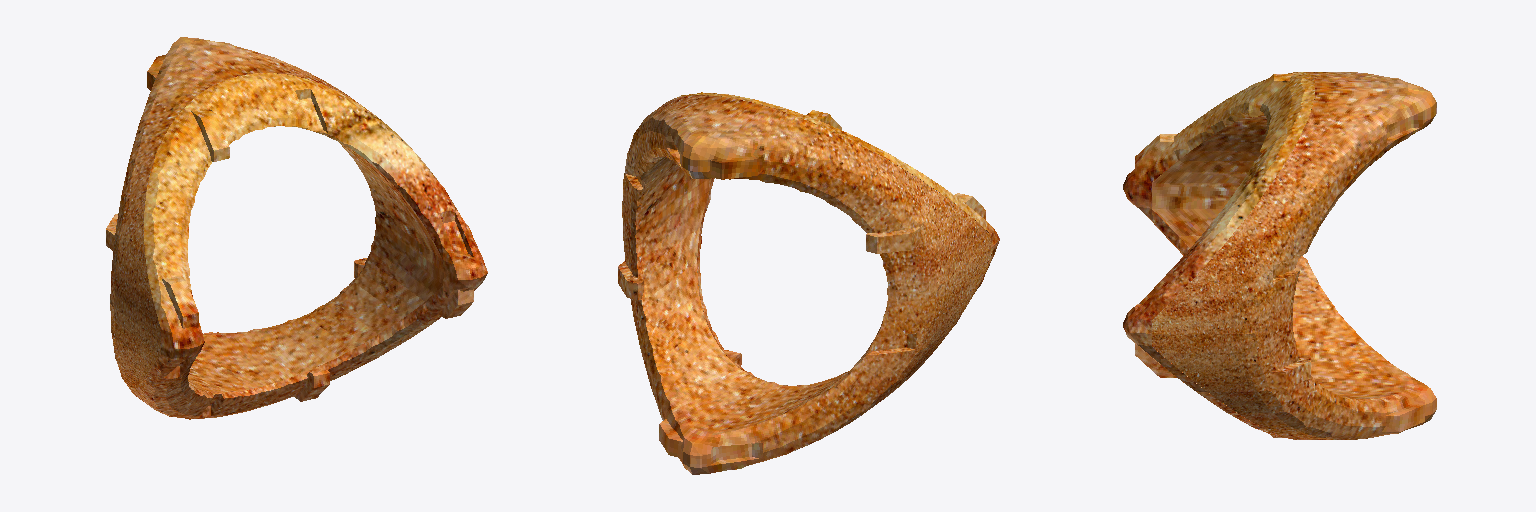
3 renders of one model, left to right at view 1: azimuth 30°, elevation 25°; view 2: azimuth 150°, elevation 25°; view 3: azimuth 270°, elevation 25°, orthographic.
Visible parts, largest first — view 1: Cylinder.006_Cylinder.008; view 2: Cylinder.006_Cylinder.008; view 3: Cylinder.006_Cylinder.008.
Part boxes in pixels (x1,y1,x2,y2): Cylinder.006_Cylinder.008: (106,37,487,419); Cylinder.006_Cylinder.008: (618,92,999,474); Cylinder.006_Cylinder.008: (1123,72,1436,439).
Bounding box in the file's own units: 2.27 × 2.27 × 1.93.
1 materials, 1 textured.